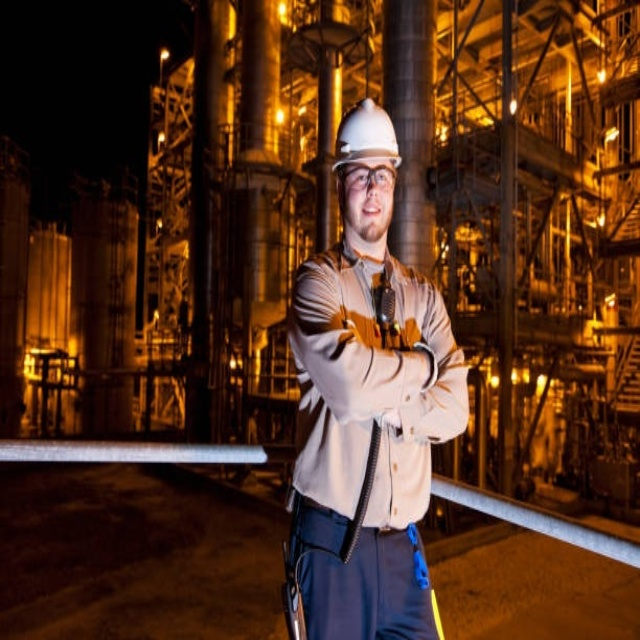Gafas: (339, 162, 396, 196)
Sin_mascara: (360, 199, 382, 227)
